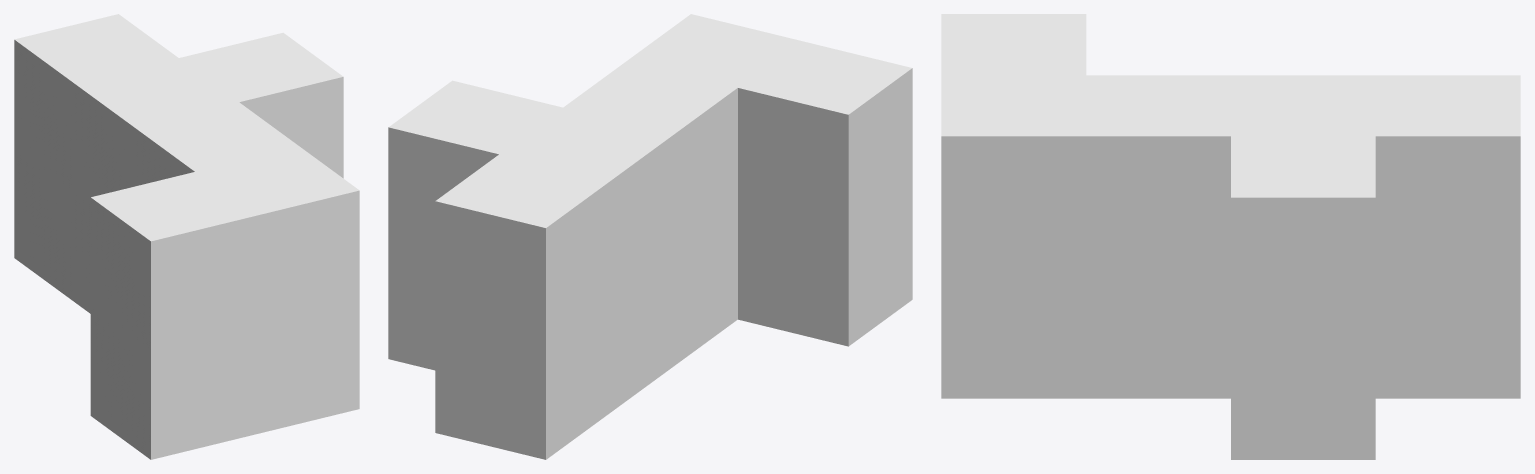
3 renders of one model, left to right at view 1: azimuth 30°, elevation 25°; view 2: azimuth 150°, elevation 25°; view 3: azimuth 270°, elevation 25°, orthographic. The views are drawn at different scales.
Parts seen in each view (by area): view 1: mergedBlocks(Clone); view 2: mergedBlocks(Clone); view 3: mergedBlocks(Clone).
Part boxes in pixels (x1,y1,x2,y2): mergedBlocks(Clone): [14, 14, 359, 459]; mergedBlocks(Clone): [388, 14, 912, 459]; mergedBlocks(Clone): [941, 14, 1520, 459].
Size of the model in its own units: 3 by 2 by 4.
1 material, 1 textured.
